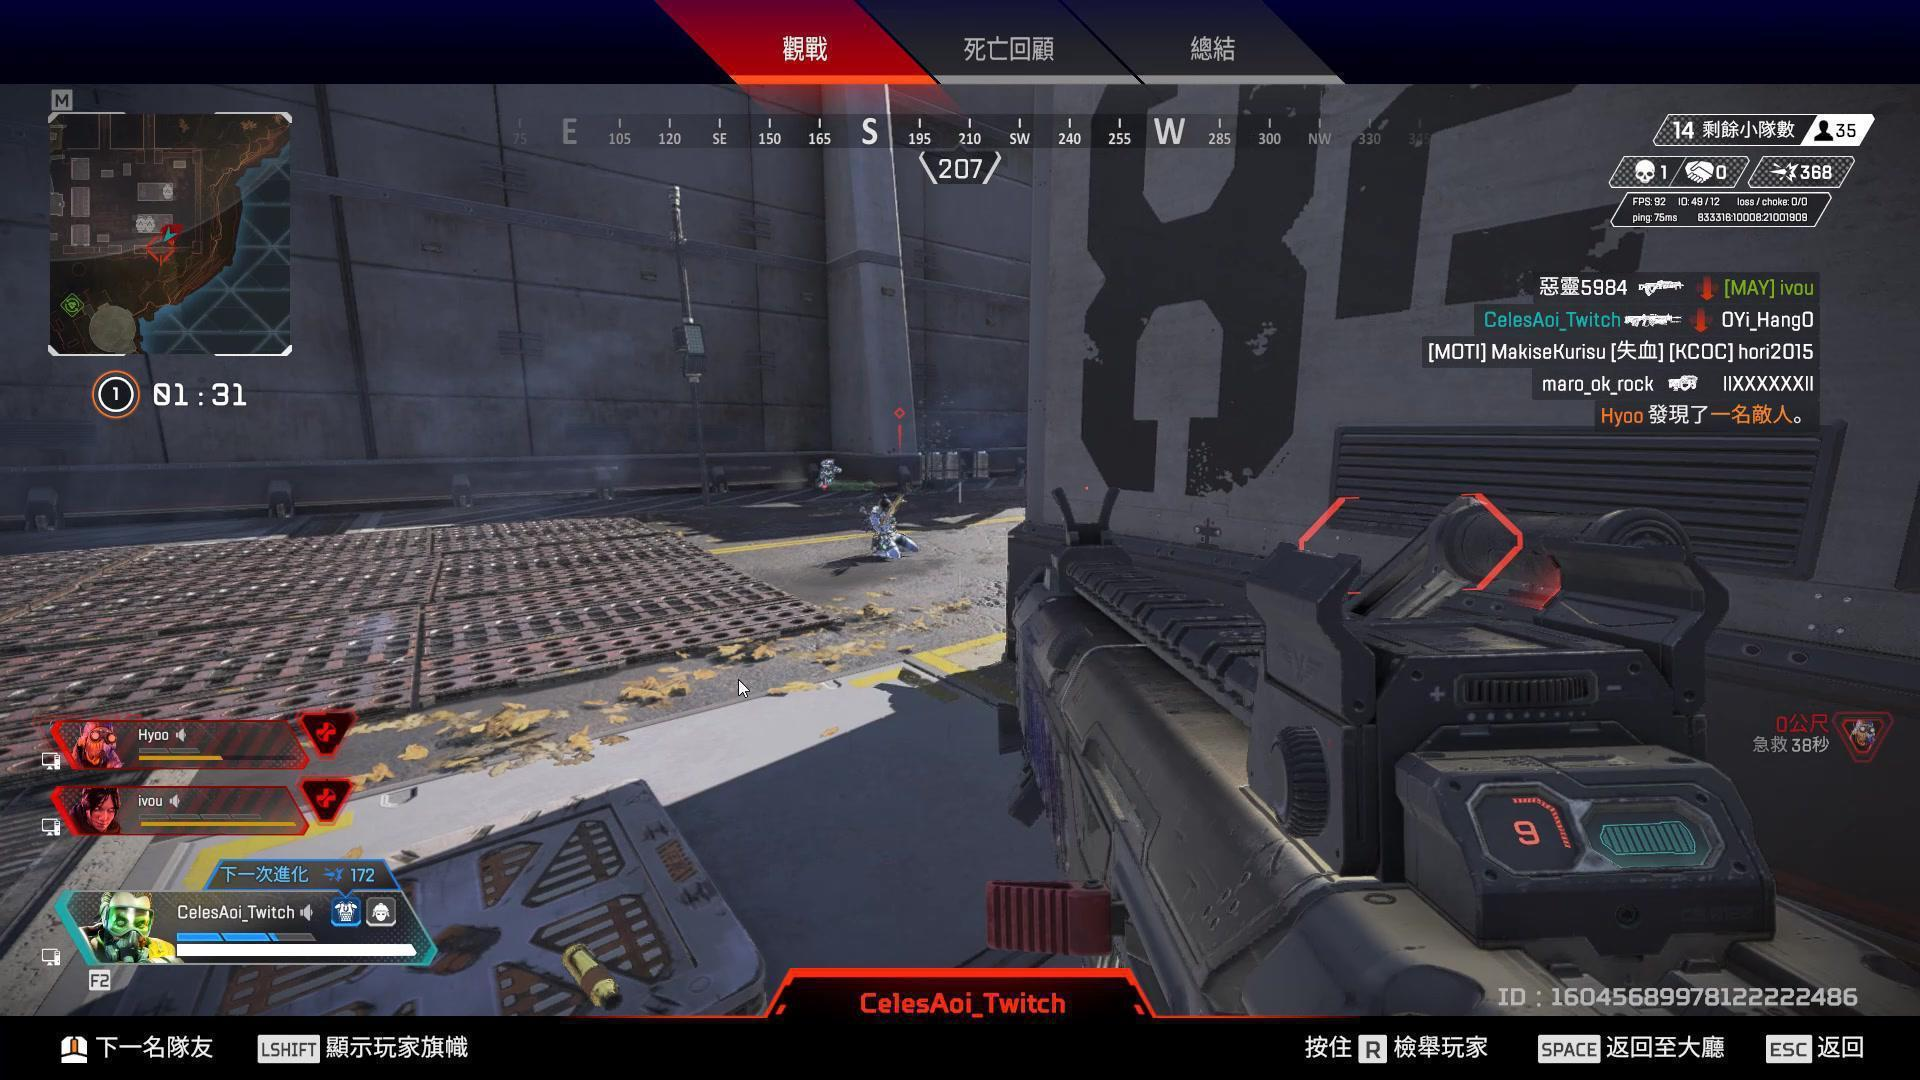avatar: (858, 489, 923, 564)
